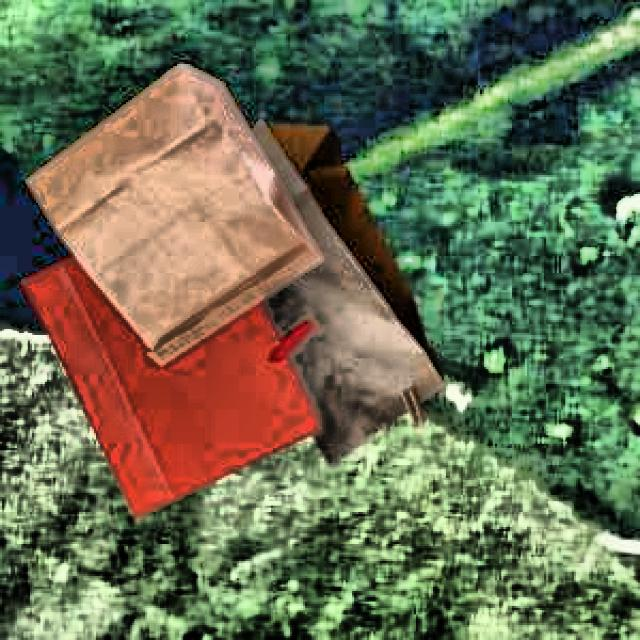Paper-bag: (44, 196, 330, 522), (24, 58, 316, 358)
